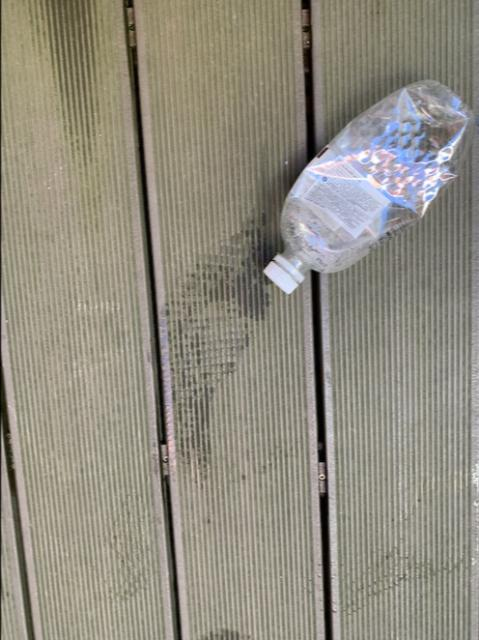plastic: (262, 82, 471, 295)
